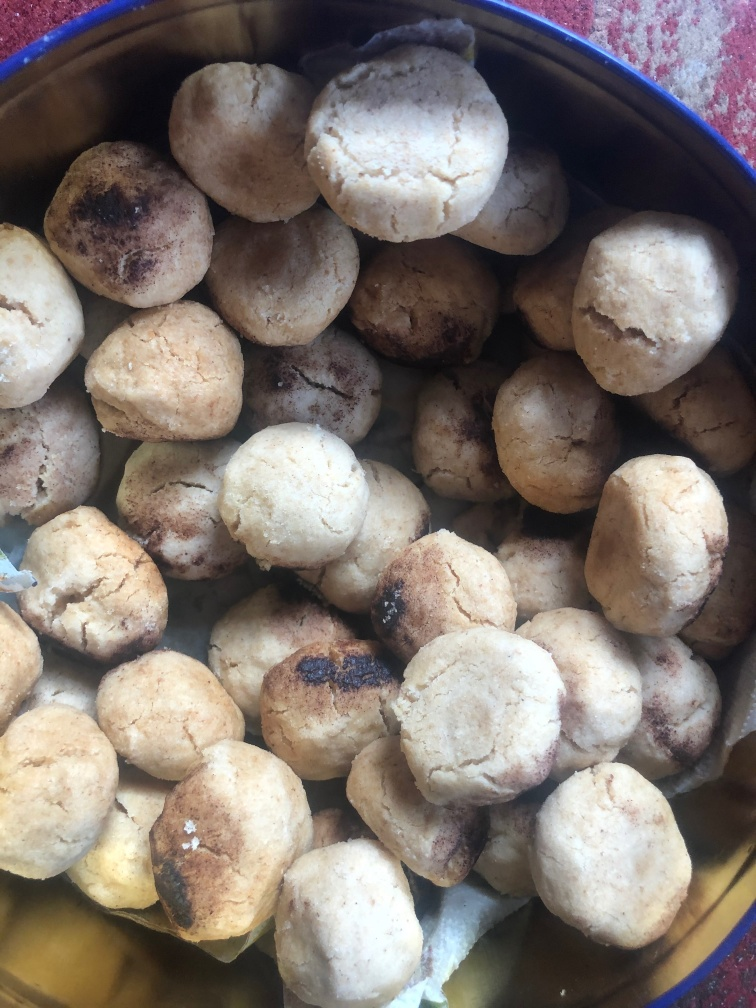snowball: (307, 49, 509, 245), (536, 763, 696, 960), (575, 210, 734, 401), (148, 744, 296, 949), (393, 628, 559, 807), (39, 129, 205, 307), (268, 836, 431, 1008), (584, 450, 733, 638), (167, 61, 324, 231), (16, 505, 172, 667), (3, 700, 124, 885), (218, 424, 369, 569), (84, 304, 240, 438), (212, 210, 357, 350), (378, 527, 518, 662), (91, 653, 243, 773), (263, 639, 396, 775), (496, 361, 613, 510), (362, 243, 503, 354), (451, 147, 562, 258)
